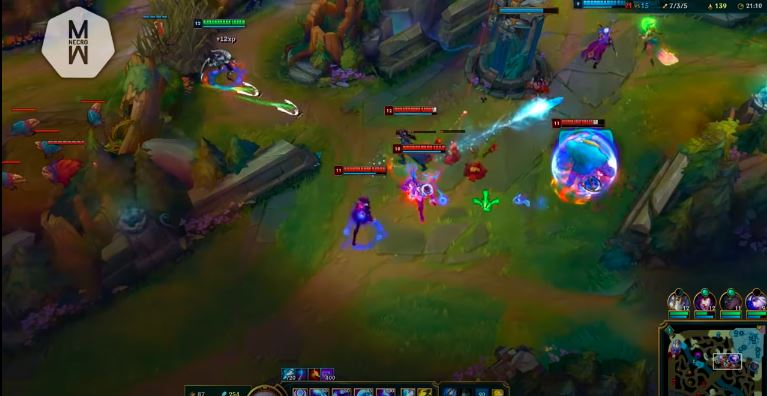bar: (333, 163, 388, 179), (381, 104, 440, 118), (391, 141, 446, 156), (550, 117, 608, 130), (193, 18, 249, 30), (571, 1, 633, 11)
